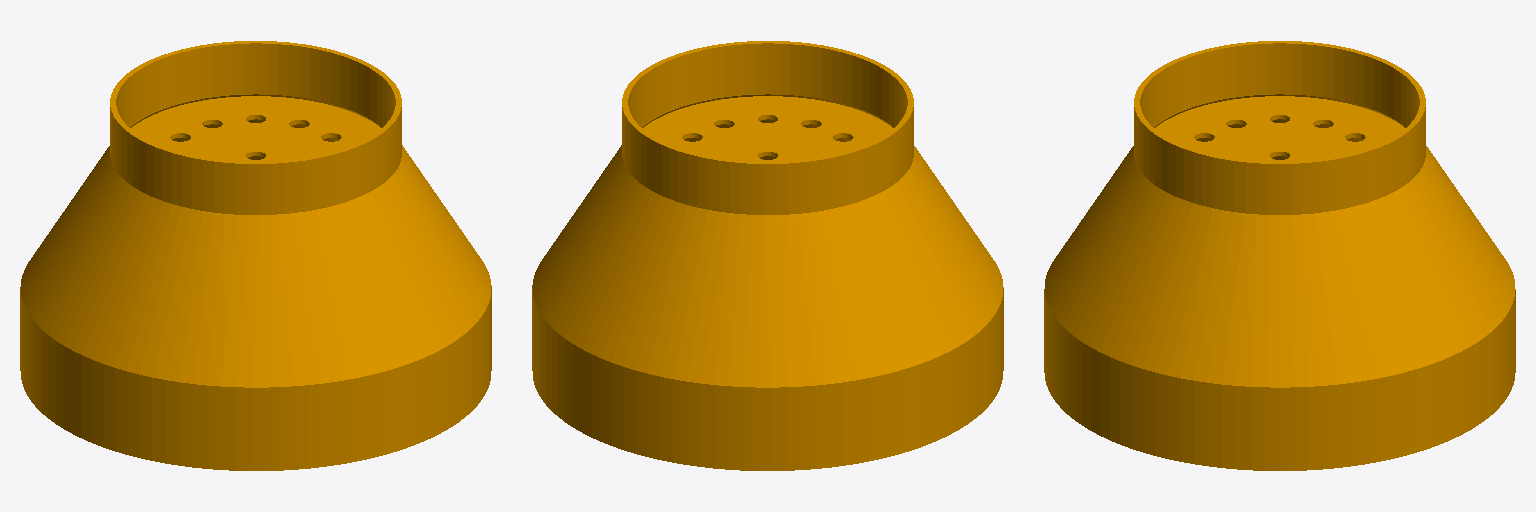
URDF robot description (cocktail_shaker_lid):
<?xml version="1.0"?>
<!--
  Cocktail shaker LID as an independent rigid body. ORIGIN = center of mass.
  Visual = OBJ, Collision = STL. Mesh paths relative to this URDF. mm -> scale 0.001.

  Assembly: when closed, place this lid at (0,0,0.098960) in the BODY frame
  (= body_COM to lid_COM). Mating fit: skirt inner Ø88.7 over body top Ø88 (18mm overlap).
  Set collision approximation = "sdf" in Isaac (hollow shell + Ø4 strainer holes).
-->
<robot name="cocktail_shaker_lid">
  <link name="shaker_lid">
    <inertial>
      <origin xyz="0 0 0" rpy="0 0 0"/>  <!-- origin = center of mass -->
      <mass value="0.1776"/>
      <inertia ixx="1.8023e-04" ixy="0" ixz="0" iyy="1.8023e-04" iyz="0" izz="2.6513e-04"/>
    </inertial>
    <visual>
      <origin xyz="0 0 0" rpy="0 0 0"/>
      <geometry>
        <mesh filename="../meshes/visual/shaker_lid.obj" scale="0.001 0.001 0.001"/>
      </geometry>
    </visual>
    <collision>
      <origin xyz="0 0 0" rpy="0 0 0"/>
      <geometry>
        <mesh filename="../meshes/collision/shaker_lid.stl" scale="0.001 0.001 0.001"/>
      </geometry>
    </collision>
  </link>
</robot>

--- Render facts (derived) ---
The picture shows the robot from 3 angles, left to right: view 1: azimuth 30°, elevation 25°; view 2: azimuth 150°, elevation 25°; view 3: azimuth 270°, elevation 25°; orthographic projection.
Robot: cocktail_shaker_lid — 1 links, 0 joints (none); root link shaker_lid; default pose: all joints at 0.
Visible links, largest first — view 1: shaker_lid; view 2: shaker_lid; view 3: shaker_lid.
Link boxes in pixels (bbox=[...]): shaker_lid: bbox=[20, 41, 491, 470]; shaker_lid: bbox=[532, 41, 1003, 470]; shaker_lid: bbox=[1044, 41, 1515, 470].
Bounding box of the posed robot: 0.092 × 0.092 × 0.058 m (x, y, z).
1 mesh visuals loaded from 1 distinct referenced files (1 OBJ).
